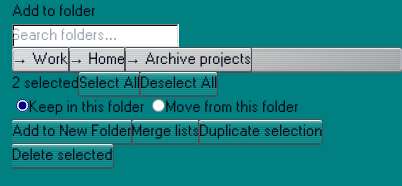
Test: SelectionToolbar folder search › filters folders by description
Type "old" into the search field labelled "Search folders" at (96, 36), box [12,24,179,48]
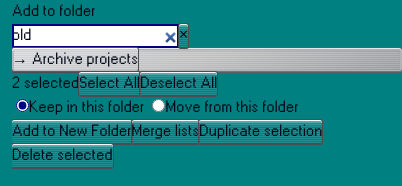
Expected: the option "→ Archive projects" is shown, [12,48,138,72]
Expected: the option "→ Work" is gone
